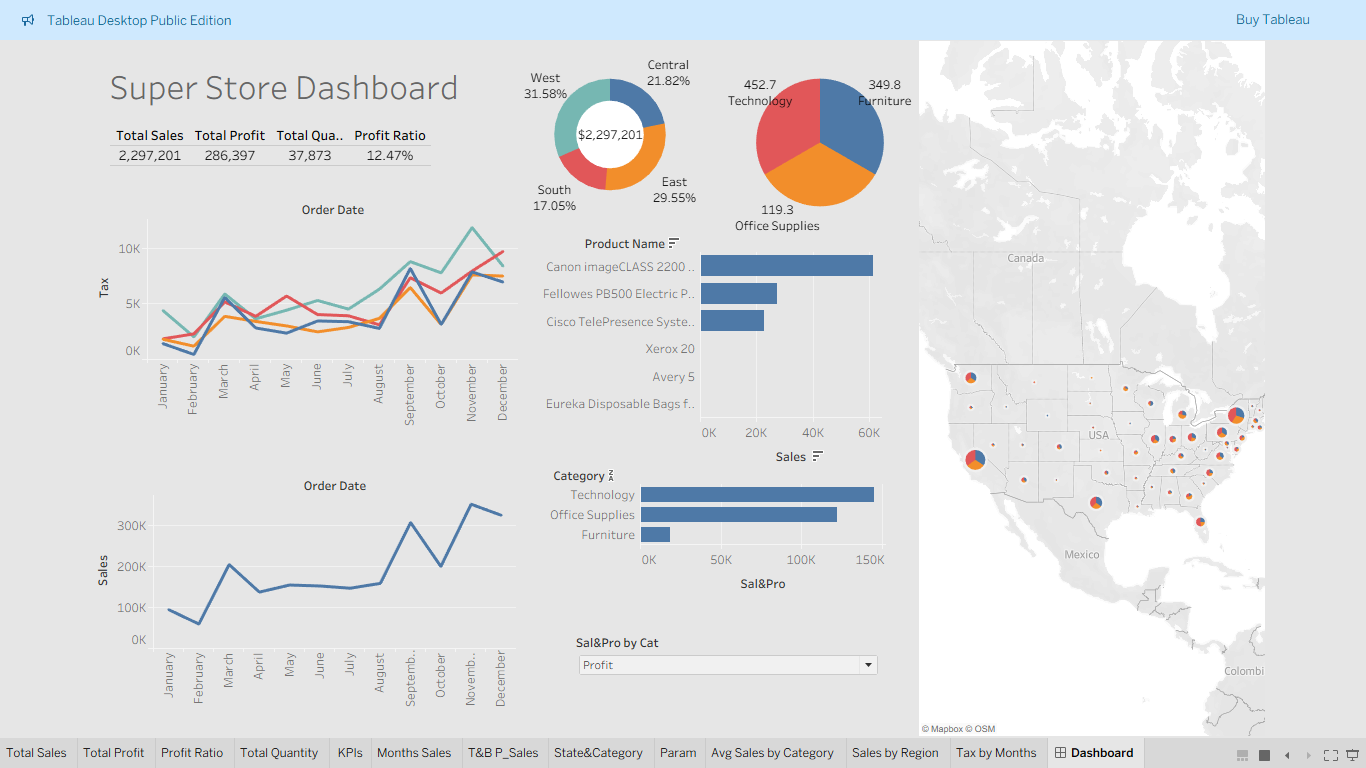

What the dashboard file says about the page in this screenshot:
{"tool":"tableau","page":{"name":"Dashboard ","canvas":[1000,1000],"units":"permille","ordinal":0},"visuals":[{"type":"worksheet","title":"State&Category","mark":"Pie","box":[696.1,0,290,998.2]},{"type":"worksheet","title":"Sales by Region","mark":"Pie","rows":["Calculation_803611117206159360","Calculation_803611117206159360"],"box":[366.4,9.1,144.8,253.6]},{"type":"worksheet","title":"Avg Sales by Category","mark":"Pie","box":[536.8,12.7,155,268.1]},{"type":"text","box":[20,25.4,322.3,81.5]},{"type":"worksheet","title":" KPIs","mark":"Automatic","box":[5.2,92.4,336.2,144.9]},{"type":"worksheet","title":"Tax by Months","mark":"Automatic","rows":["Calculation_1206120333873430531"],"cols":["Order Date"],"box":[4.3,228.3,358.6,344.2]},{"type":"worksheet","title":"T&B P_Sales","mark":"Automatic","rows":["Product Name"],"cols":["Sales"],"box":[381,275.4,285.3,344.2]},{"type":"worksheet","title":"Param","mark":"Automatic","rows":["Category"],"cols":["Calculation_1206120333863247874"],"box":[381,606.9,287.9,344.2]},{"type":"worksheet","title":"Months Sales","mark":"Automatic","rows":["Sales"],"cols":["Order Date"],"box":[3.5,623.2,357.8,344.2]},{"type":"parameter","param":"[Parameters].[Parameter 1]","box":[411.2,851.5,254.3,79.7]}]}

Visuals, with their boxes on the dashboard's canvas, which has no fixed pixel size, in thousandths of its width and height (x1, y1, x2, y2). These are canvas units, not pixel positions in the 1366x768 screenshot, which may show the page scaled, cropped or inside an application window:
"State&Category" worksheet (Pie marks): <bbox>696, 0, 986, 998</bbox>
"Sales by Region" worksheet (Pie marks): <bbox>366, 9, 511, 263</bbox>
"Avg Sales by Category" worksheet (Pie marks): <bbox>537, 13, 692, 281</bbox>
text: <bbox>20, 25, 342, 107</bbox>
" KPIs" worksheet: <bbox>5, 92, 341, 237</bbox>
"Tax by Months" worksheet: <bbox>4, 228, 363, 572</bbox>
"T&B P_Sales" worksheet: <bbox>381, 275, 666, 620</bbox>
"Param" worksheet: <bbox>381, 607, 669, 951</bbox>
"Months Sales" worksheet: <bbox>4, 623, 361, 967</bbox>
parameter: <bbox>411, 852, 666, 931</bbox>
